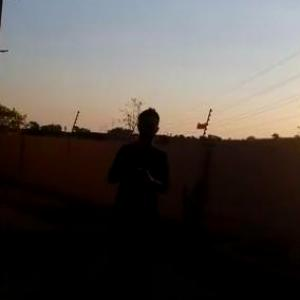follow: (100, 101, 176, 299)
